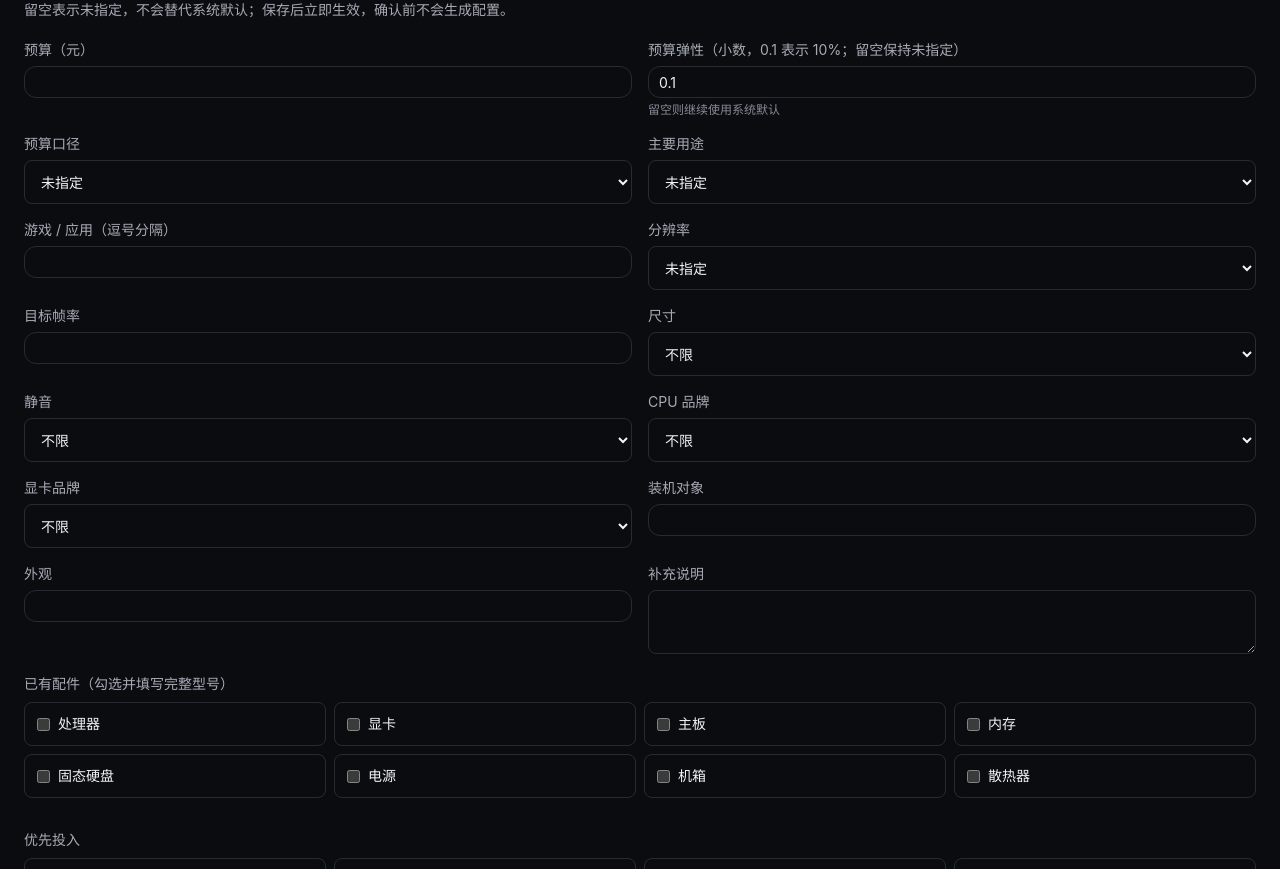
Test: RequirementFullEditor 打开时固定编辑基线 › 保存遇到 409 修订冲突时保留输入并明示冲突,不静默按新 revision 覆盖
Select "ITX" in the dropdown labelled "尺寸" at (952, 354), box [648,332,1256,376]
(page scrolled)
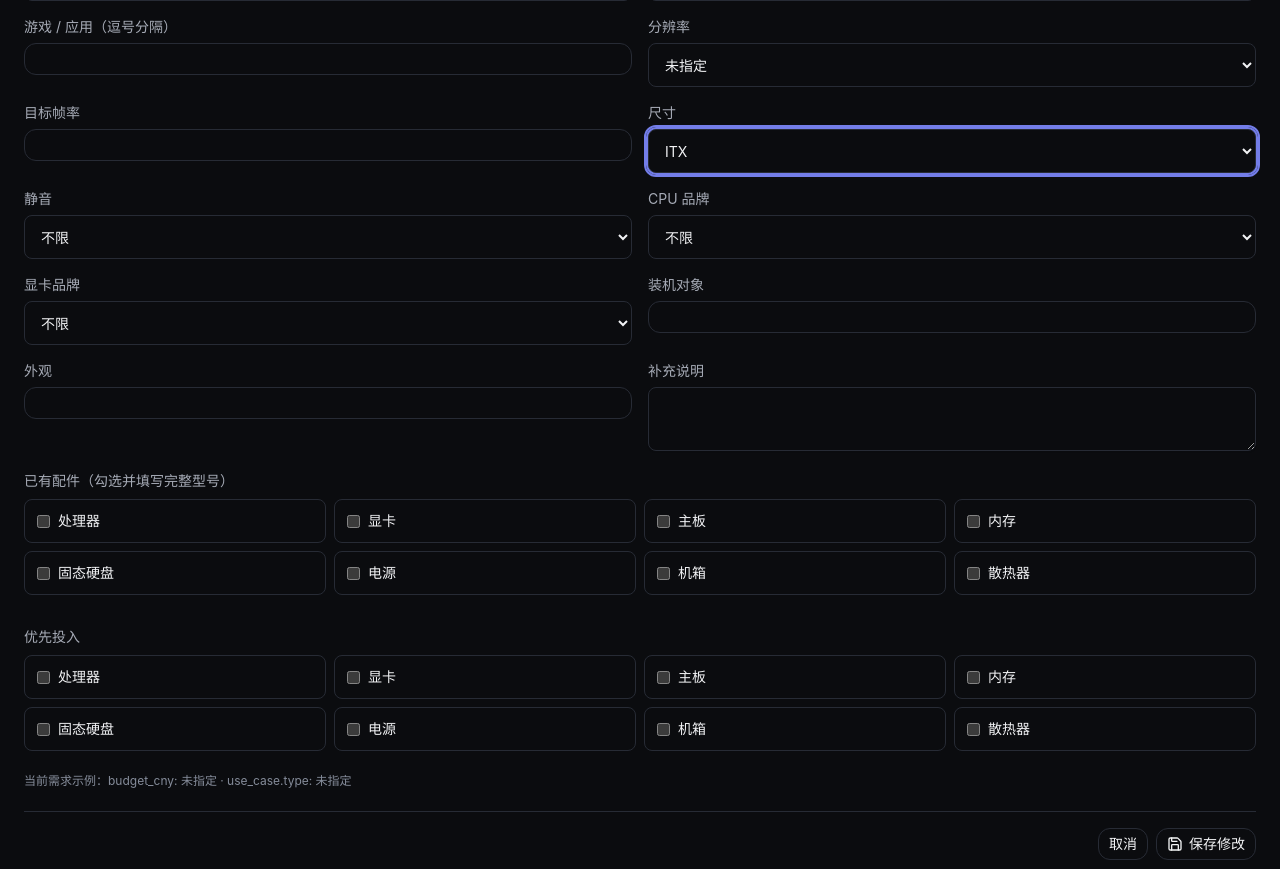
Click the button "保存修改" at (1206, 844), box [1156,828,1256,860]
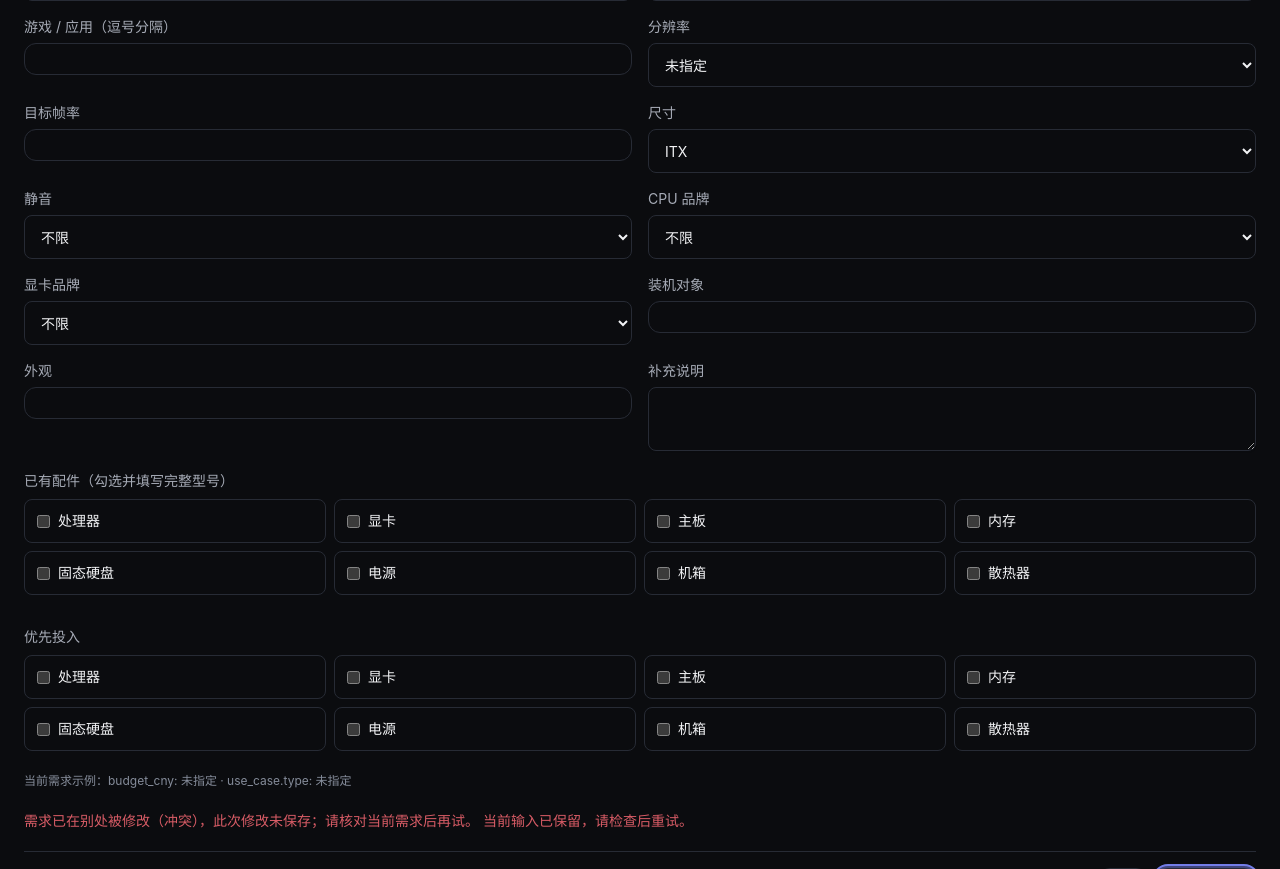
Check: the message shows "冲突", box [24,812,479,829]
Check: the message shows "当前输入已保留", box [479,812,693,829]
